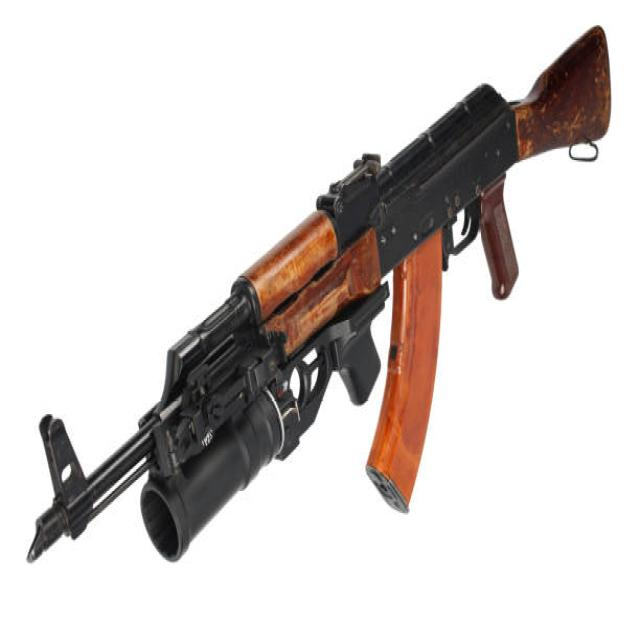rifle: (16, 20, 620, 585)
